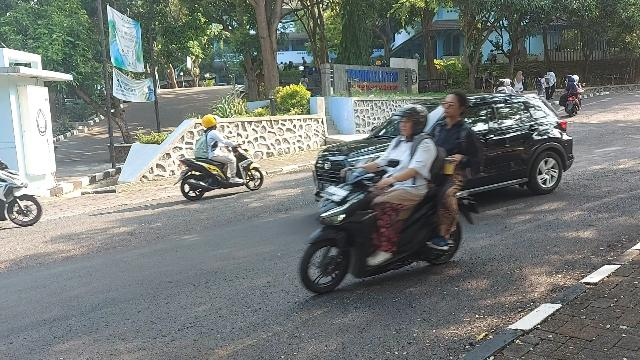helm: (394, 105, 428, 137), (203, 116, 222, 131)
motor: (301, 150, 480, 297), (175, 134, 265, 202)
non-helm: (444, 92, 467, 118)
